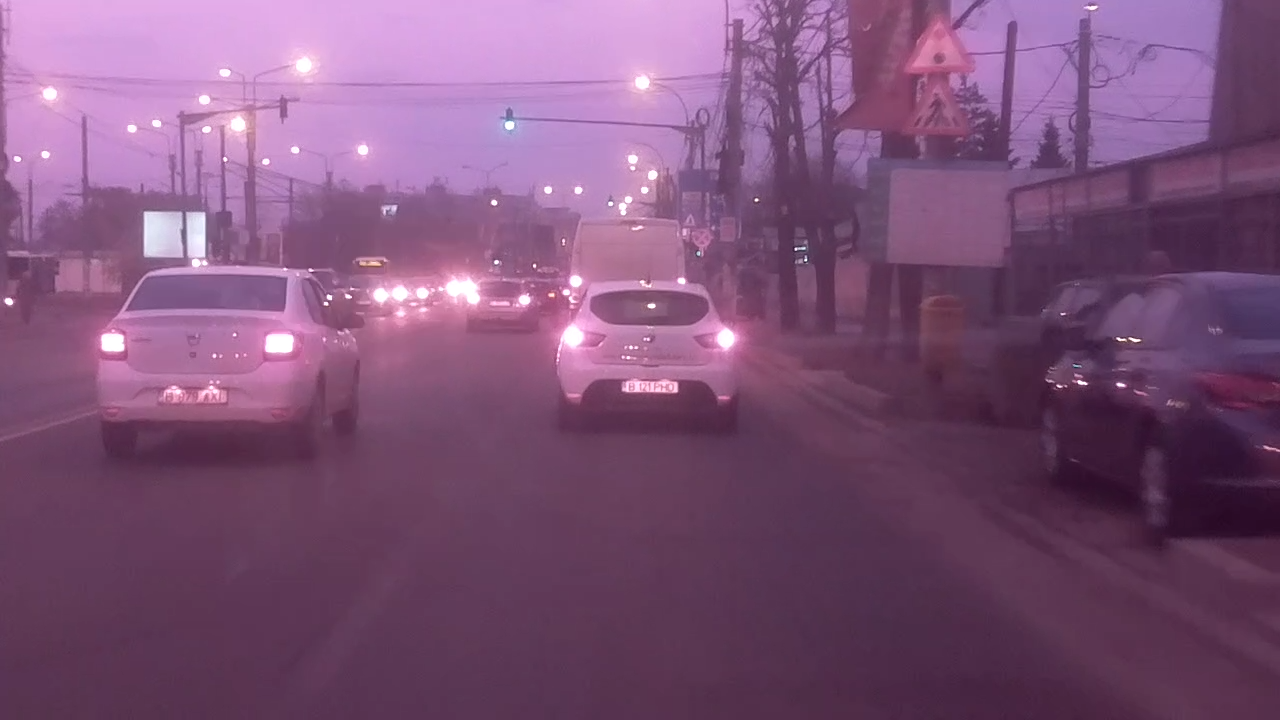license-plate: (152, 386, 232, 406)
